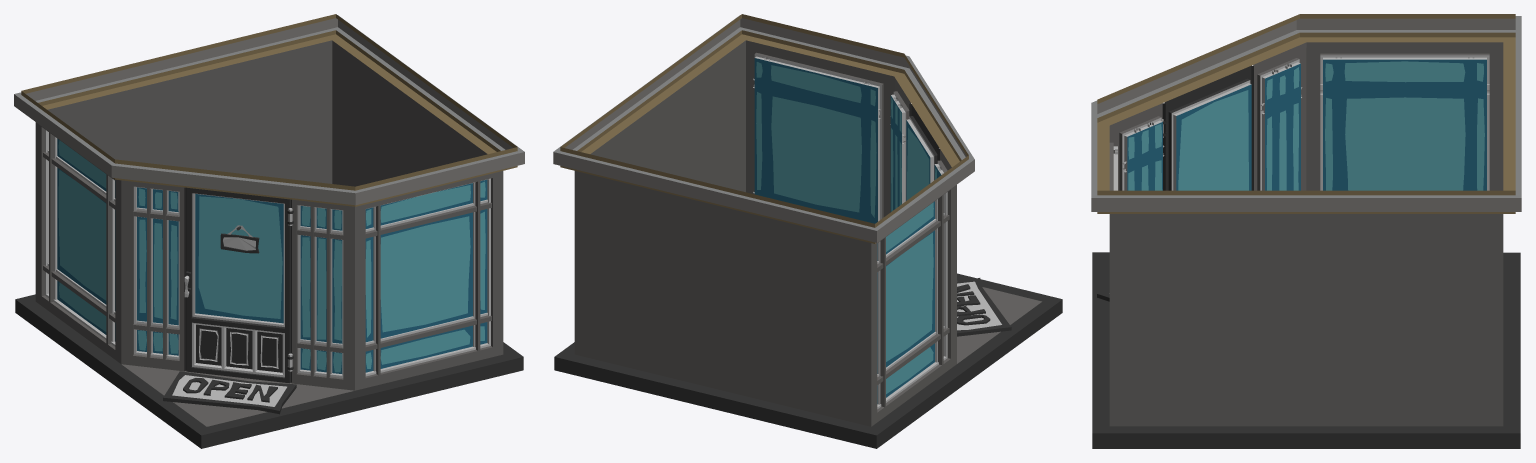
Rendered from Building_A_01.FBX.
3 views of the same model, side by side, from view 1: azimuth 30°, elevation 25°; view 2: azimuth 150°, elevation 25°; view 3: azimuth 270°, elevation 25° (orthographic). The views are drawn at different scales.
Parts seen in each view (by area): view 1: Building_A_01; view 2: Building_A_01; view 3: Building_A_01.
Part boxes in pixels (x1,y1,x2,y2): Building_A_01: [14, 14, 524, 448]; Building_A_01: [553, 14, 1062, 448]; Building_A_01: [1091, 14, 1521, 448].
Bounding box in the file's own units: 5.02 × 3.3 × 5.02.
